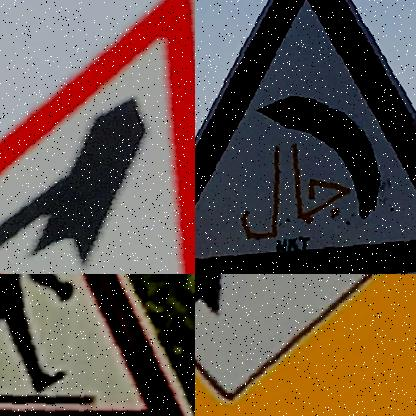Left bend: (195, 0, 416, 274)
Right bend: (195, 274, 416, 416)
